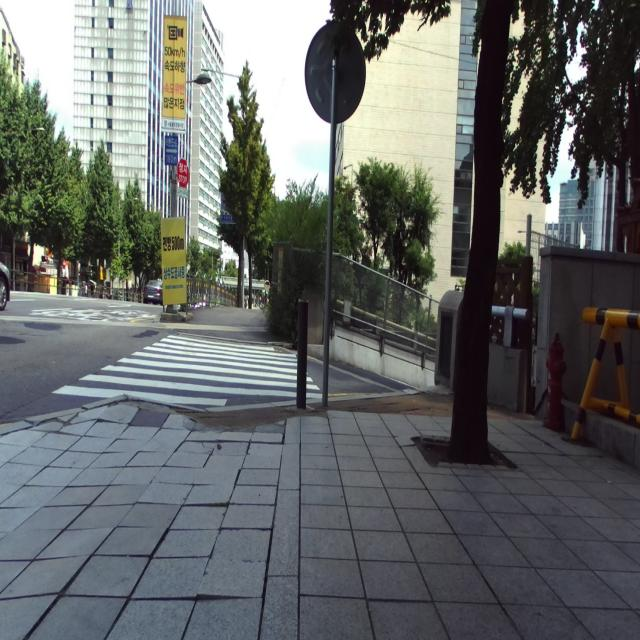횡단보도: (51, 334, 322, 406)
